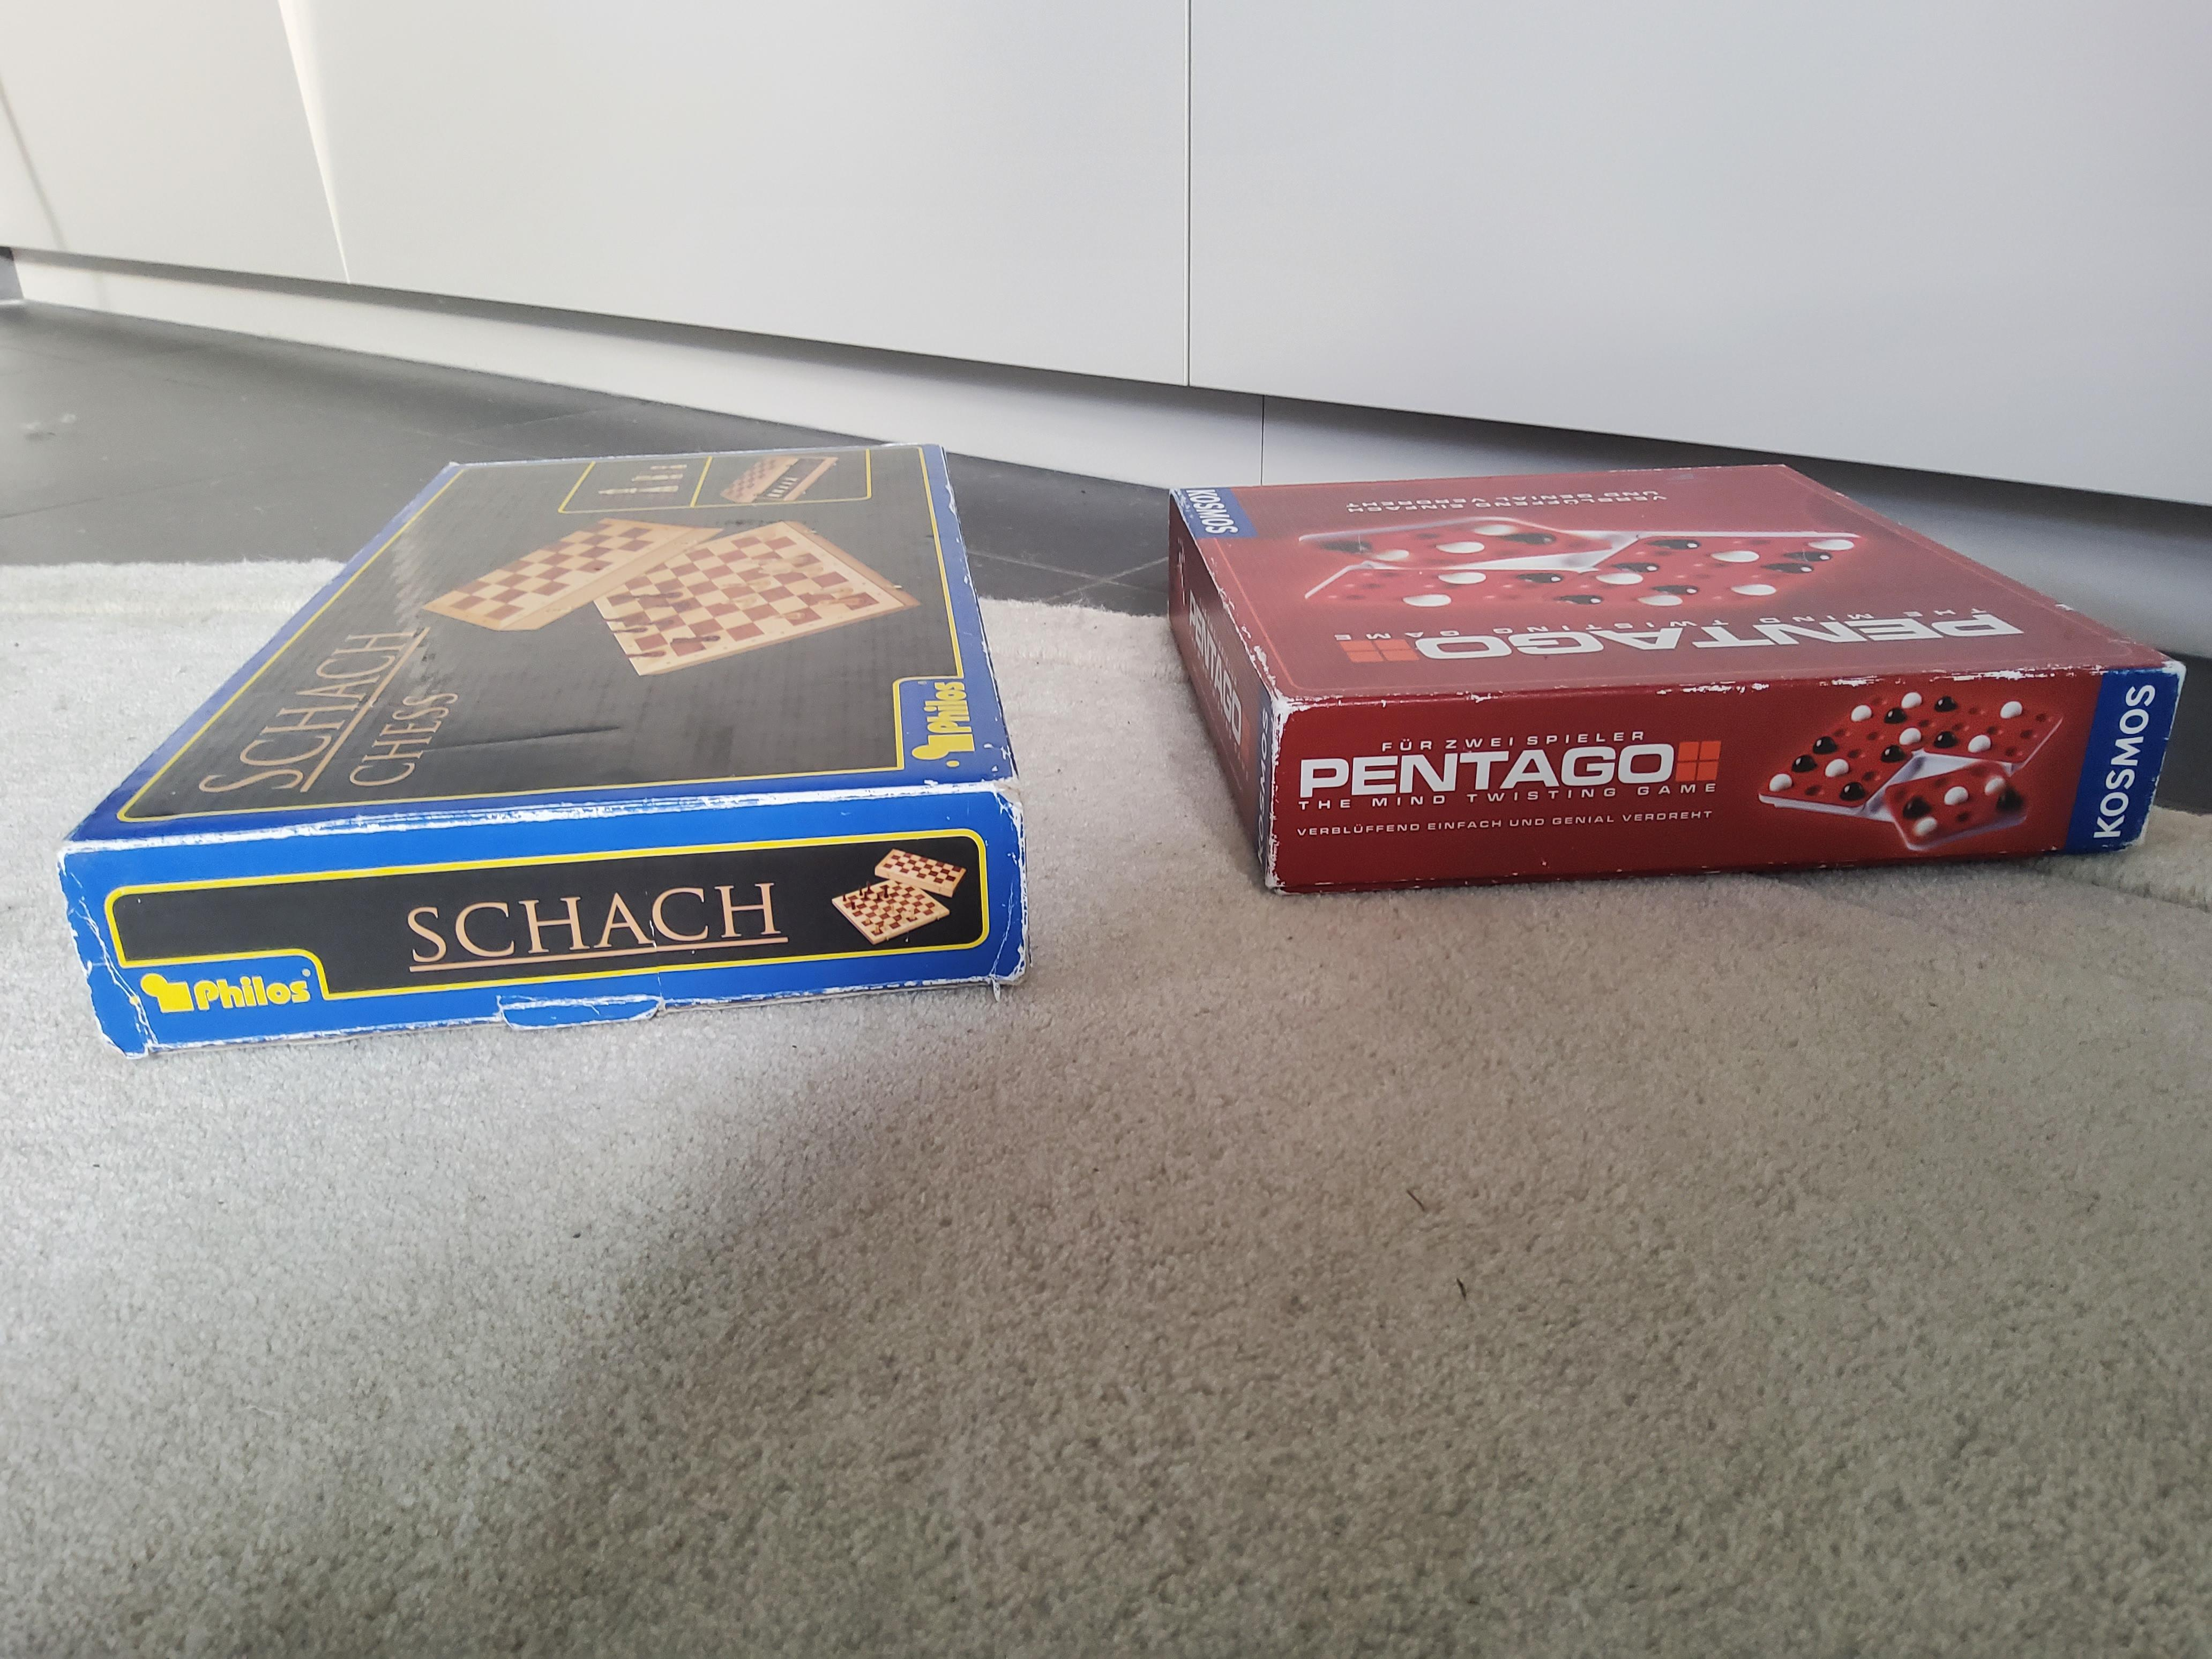pentago: (1155, 448, 2186, 906)
schaak: (64, 420, 1029, 1056)
